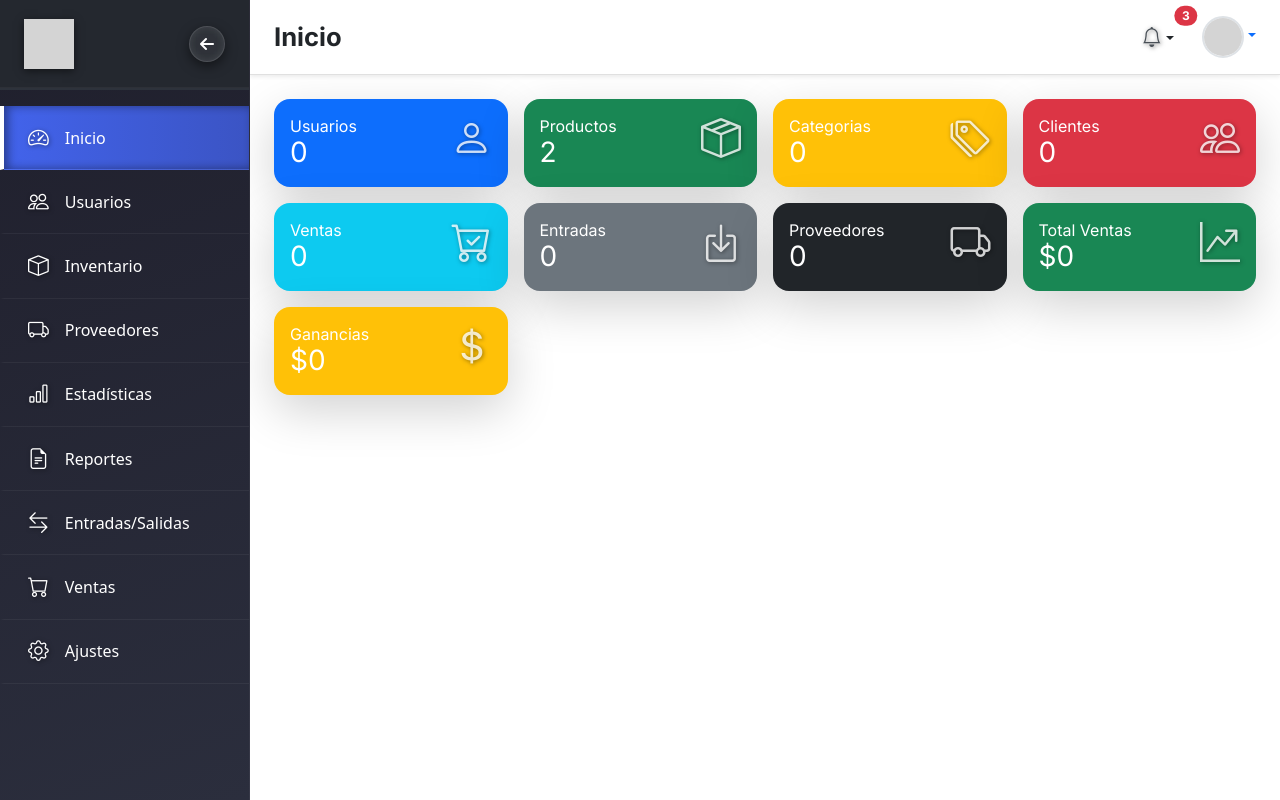
Test: Gestión de Productos › debe abrir el modal para editar producto
Step 1. Click the text "Inventario" → {"x": 104, "y": 266}, box [65,254,143,278]
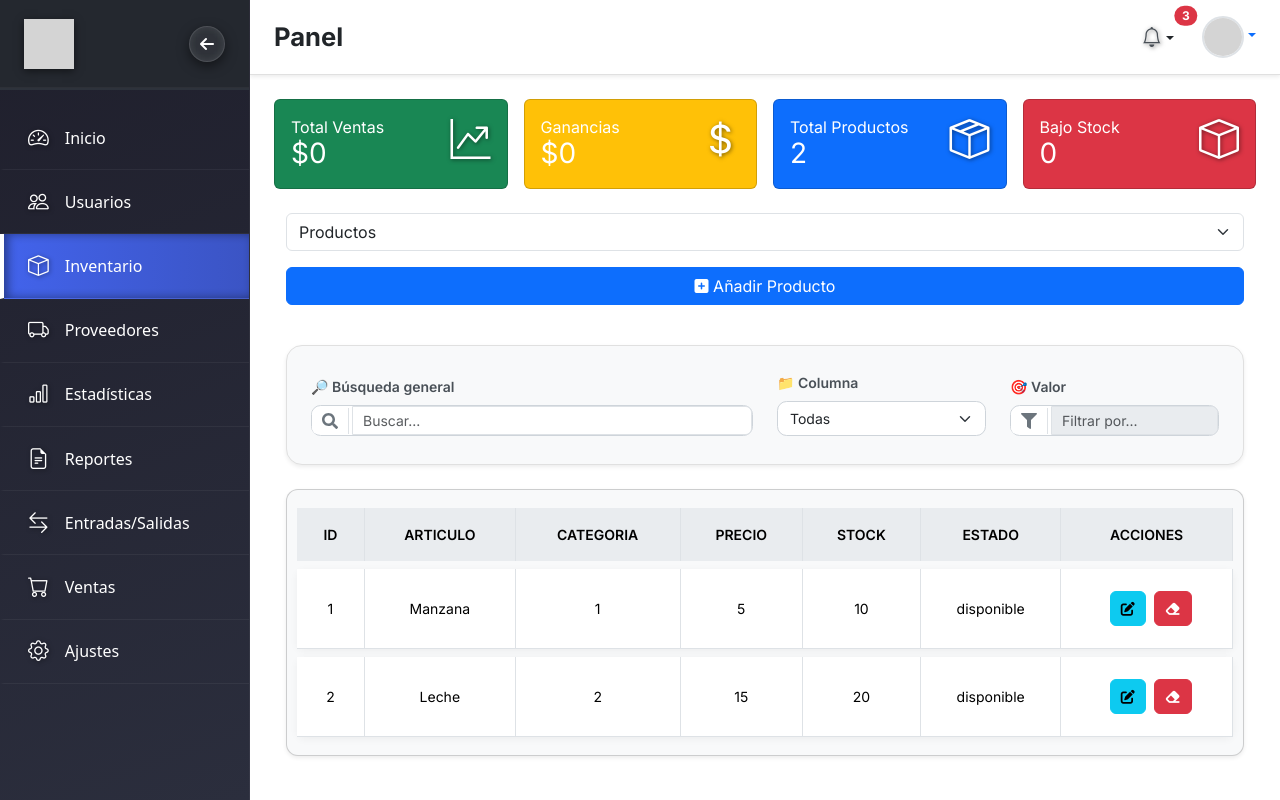
Step 2. Click the 1st button with class "btn-info" → {"x": 1128, "y": 609}, box [1110,591,1146,626]
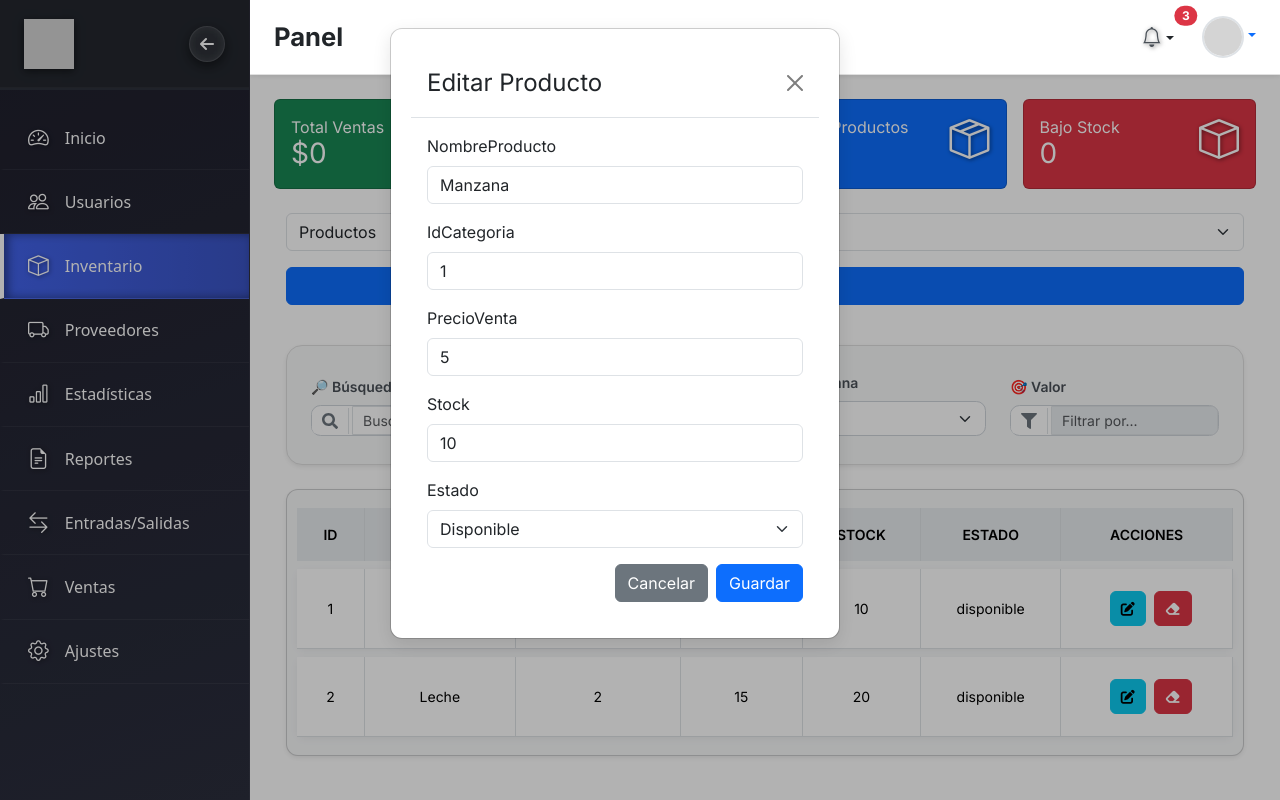
Now the element with class "modal-content" is shown, box [390,28,840,639]
Now the text "Editar Producto" is shown, box [427,65,602,101]
